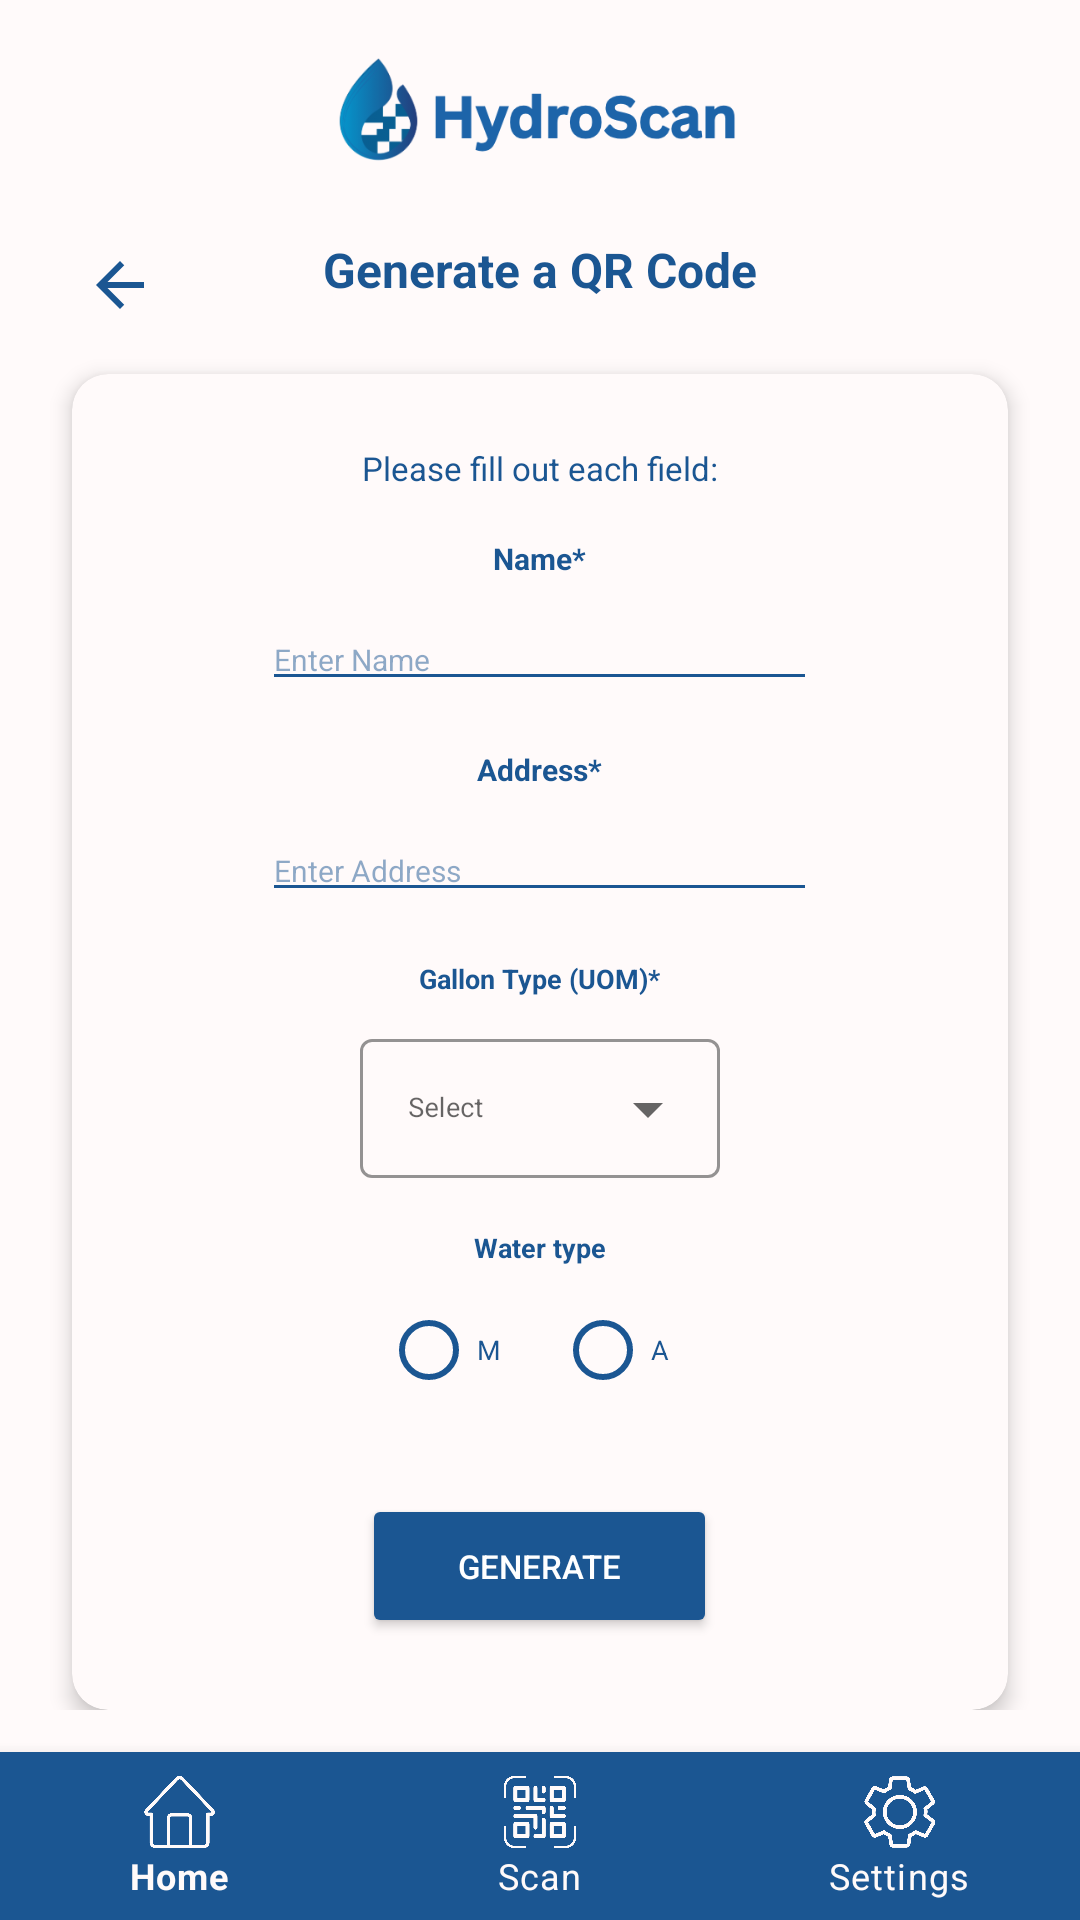

Named icons in this screenshot (1080px x 1920px) and their centers, (x=x, y=y):
back: (x=120, y=285)
